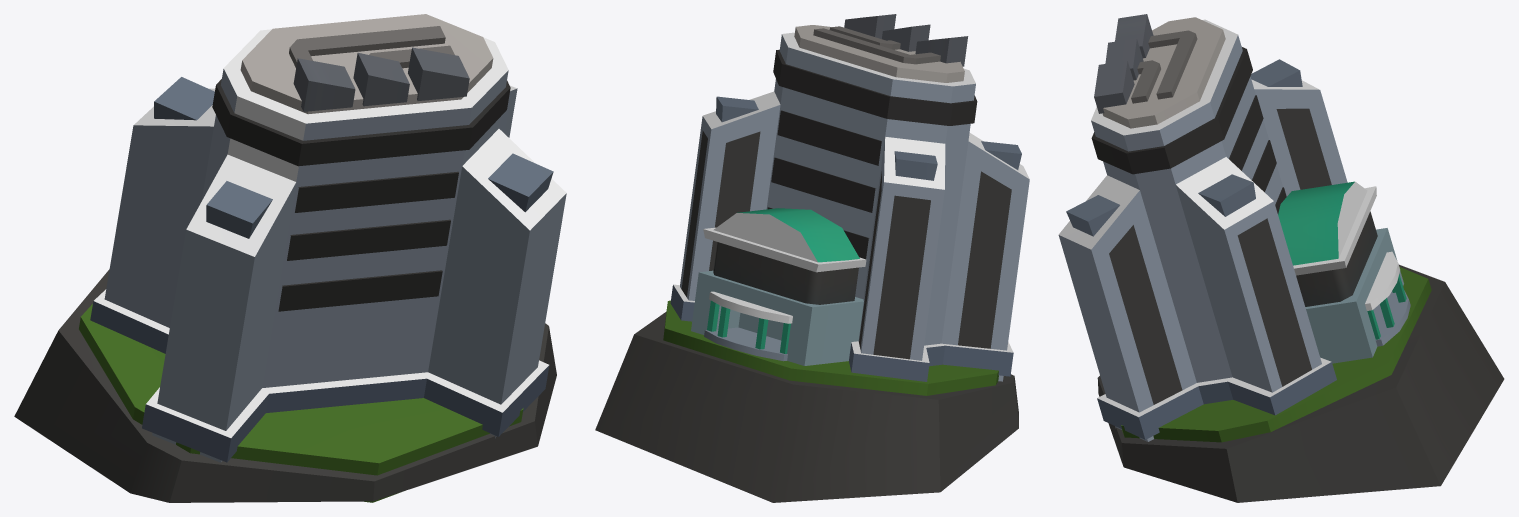
File: city_lv07_A.fbx
The picture shows the model from 3 angles, left to right: view 1: azimuth 30°, elevation 25°; view 2: azimuth 150°, elevation 25°; view 3: azimuth 270°, elevation 25°; orthographic projection. The views are drawn at different scales.
Visible parts, largest first — view 1: city_lv07_A; view 2: city_lv07_A; view 3: city_lv07_A.
Part boxes in pixels (<box>): city_lv07_A: <box>14,14,566,502</box>; city_lv07_A: <box>595,14,1029,502</box>; city_lv07_A: <box>1058,14,1504,502</box>.
Size of the model in its own units: 3757 by 3529 by 3870.
